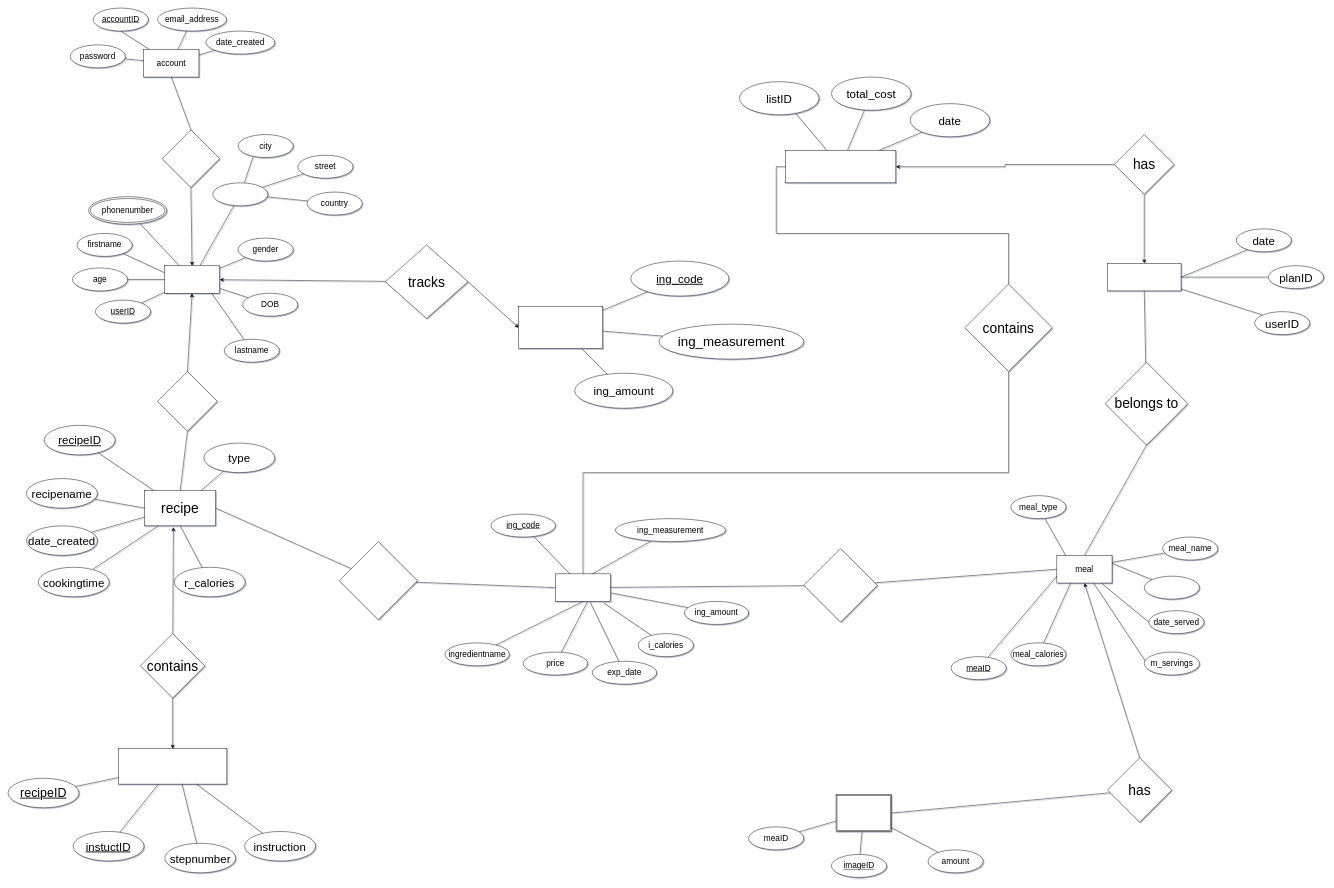
Image size: 1334x888. Some labels were removed from this diagram. Each missing label, with the centre of its shape:
address: point (240, 194)
adds: point (187, 401)
create: point (840, 585)
has an: point (191, 158)
image: point (863, 812)
ingredients: point (583, 587)
kitchen_avail: point (560, 327)
meal_plan: point (1144, 277)
prep_time: point (1171, 587)
recipe_instruction: point (172, 766)
supermarket_list: point (840, 166)
user: point (192, 279)
uses: point (378, 580)
